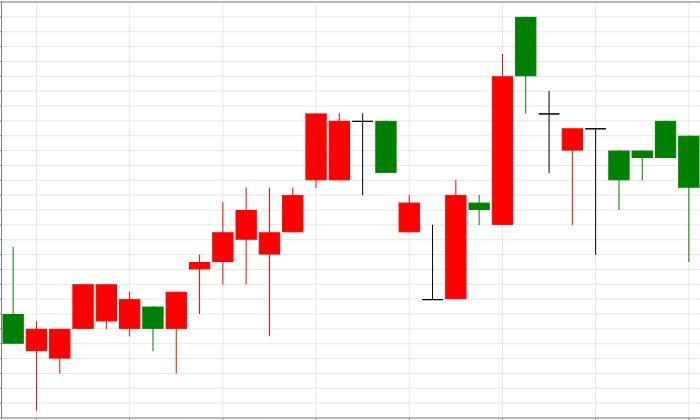evening_star_fall: (165, 114, 397, 373)
